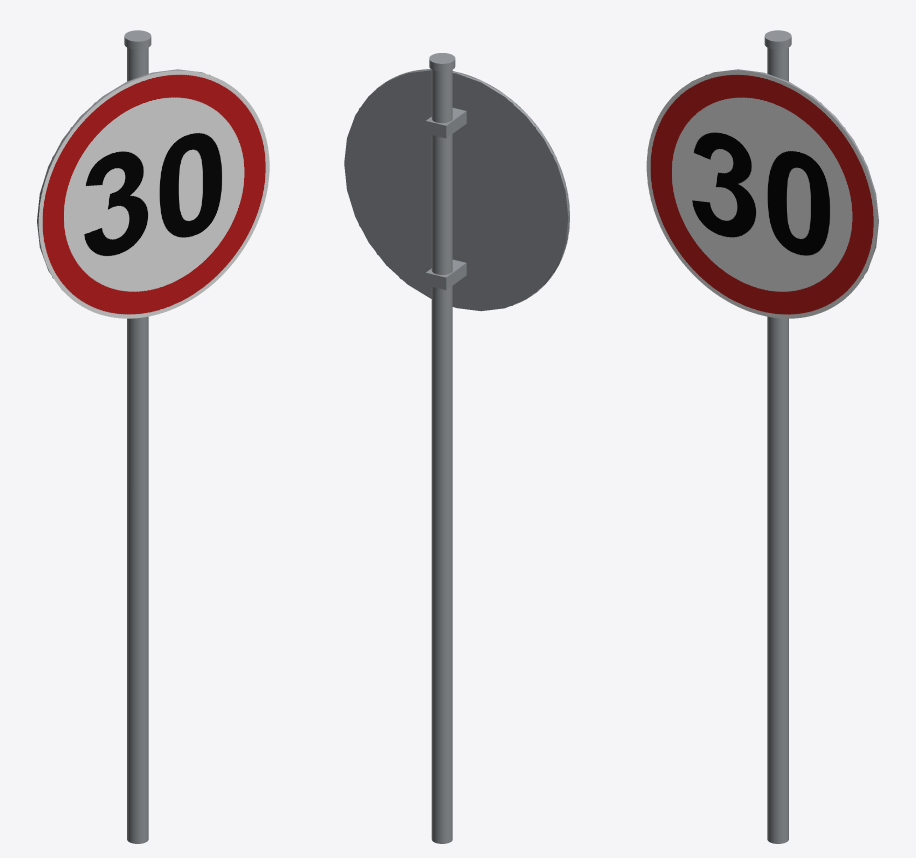
Rendered from sign_speed30kph.dae.
3 views of the same model, side by side, from view 1: azimuth 30°, elevation 25°; view 2: azimuth 150°, elevation 25°; view 3: azimuth 330°, elevation 25° (orthographic). The views are drawn at different scales.
Parts seen in each view (by area): view 1: sign128, sign48, sign4; view 2: sign128, sign48, sign4; view 3: sign128, sign48, sign4.
Part boxes in pixels (x1=…): sign128: x1=37, y1=30, x2=269, y2=843; sign48: x1=52, y1=30, x2=210, y2=843; sign4: x1=70, y1=30, x2=150, y2=843; sign128: x1=344, y1=53, x2=569, y2=843; sign48: x1=344, y1=53, x2=567, y2=843; sign4: x1=344, y1=53, x2=567, y2=843; sign128: x1=646, y1=30, x2=878, y2=843; sign48: x1=705, y1=30, x2=863, y2=843; sign4: x1=765, y1=30, x2=845, y2=843.
Bounding box in the file's own units: 0.9 × 0.1275 × 2.47.
Materials: 2 (1 with a texture image).
